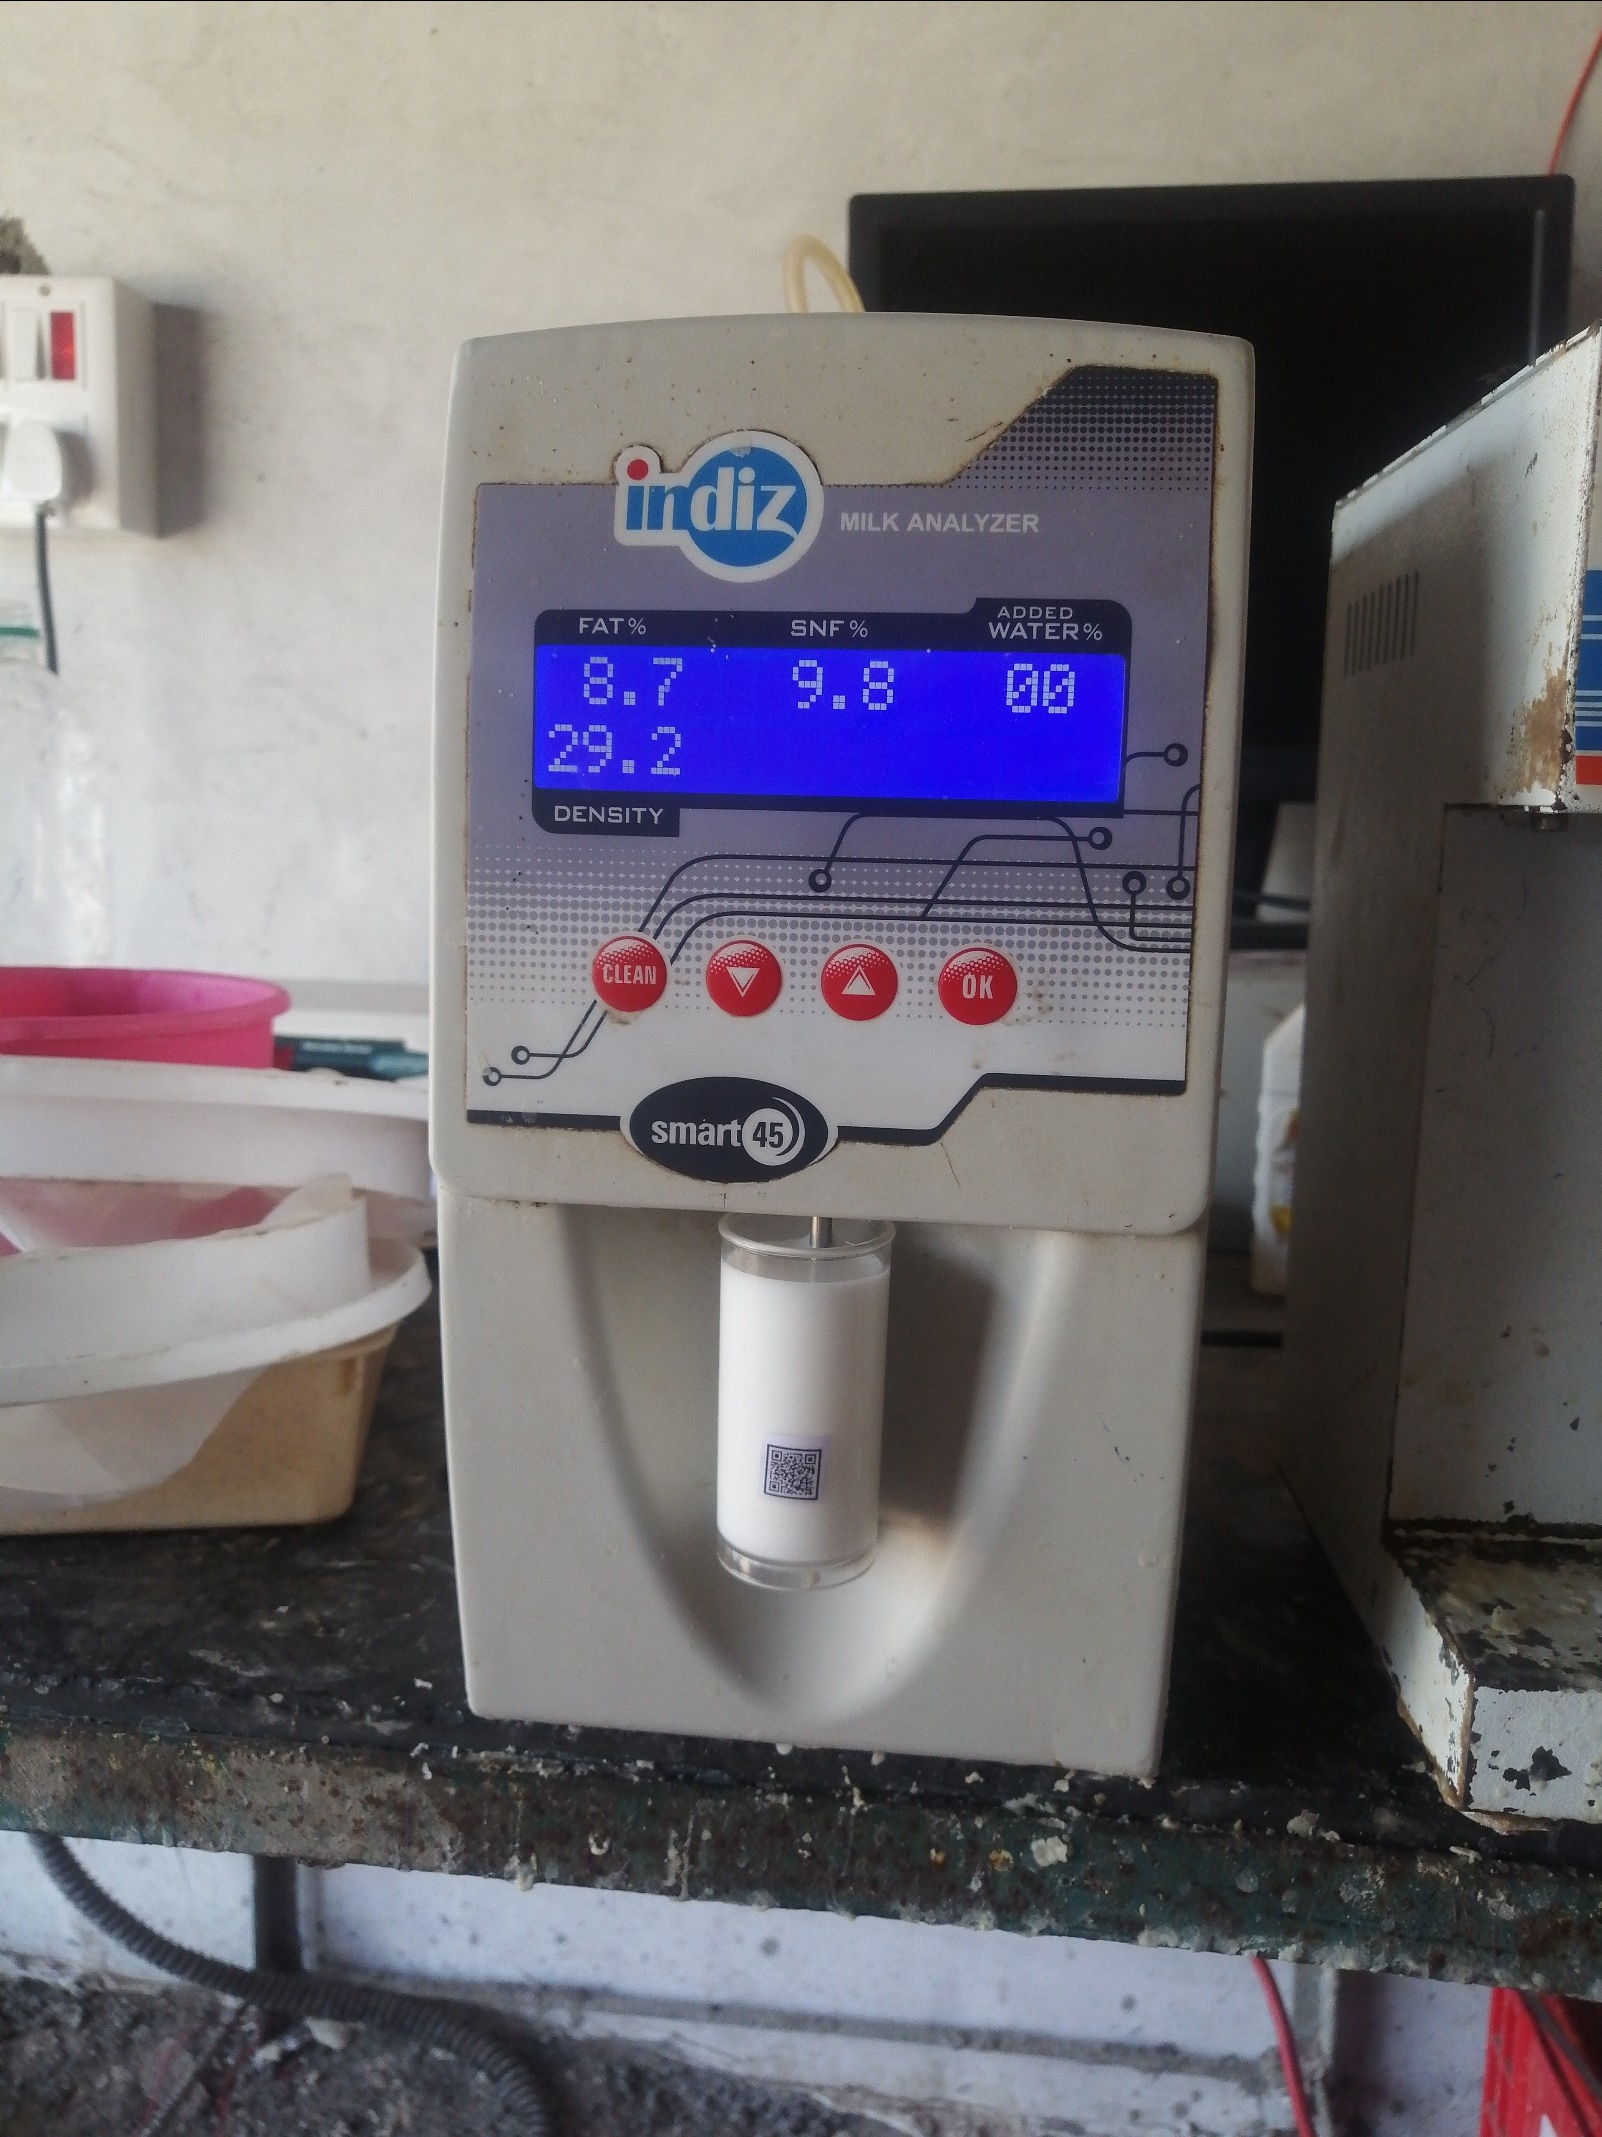lcd: (515, 633, 1153, 828)
qr: (745, 1429, 845, 1518)
